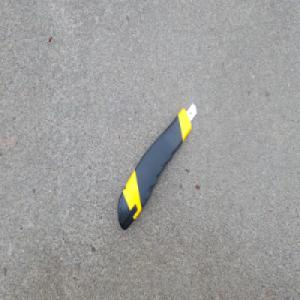Cutter: (116, 101, 198, 231)
